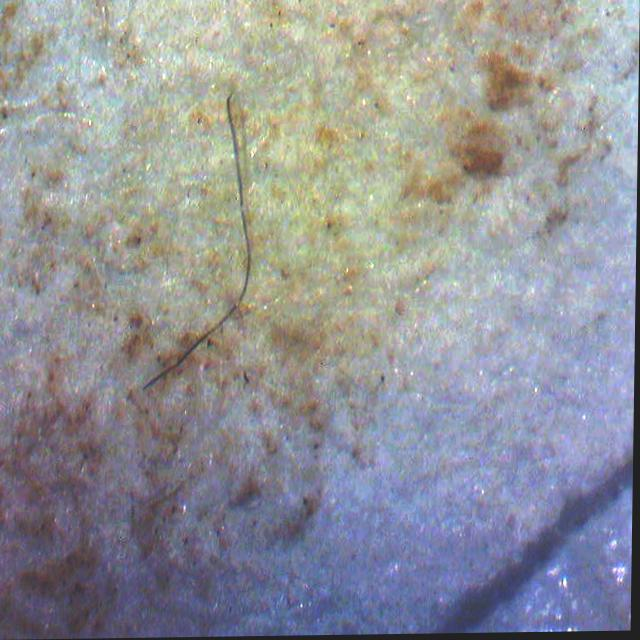microplastic: (144, 96, 290, 408)
